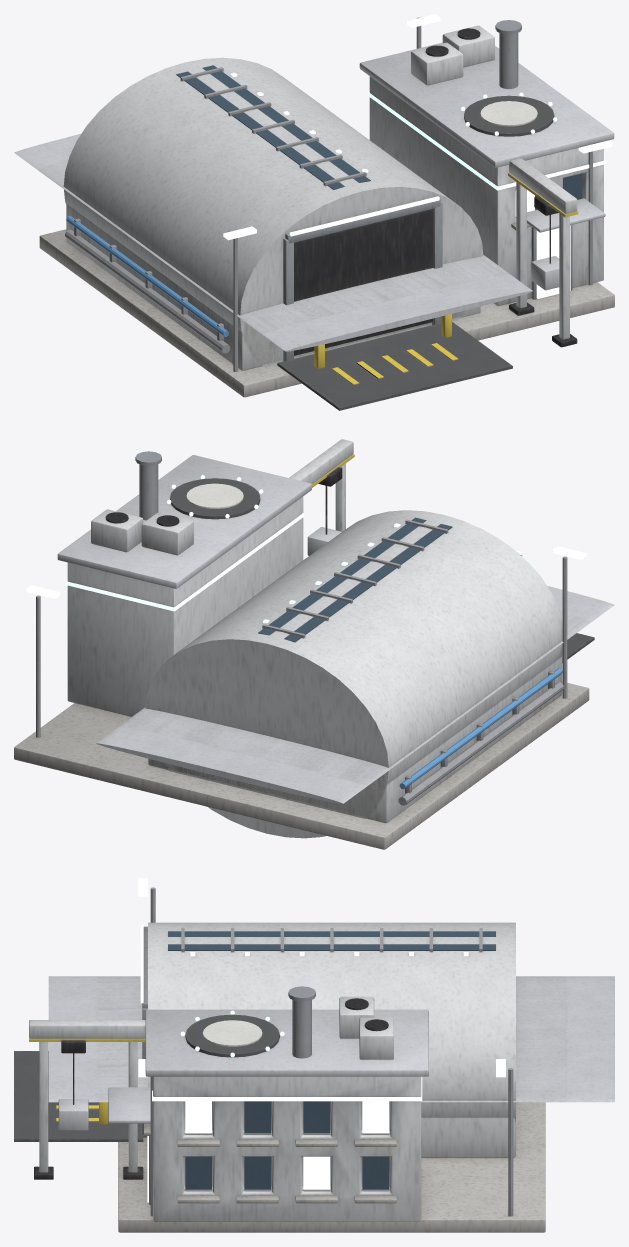
File: west_factory.glb
3 views of the same model, one above another, from view 1: azimuth 30°, elevation 25°; view 2: azimuth 150°, elevation 25°; view 3: azimuth 270°, elevation 25° (orthographic). The views are drawn at different scales.
Parts seen in each view (by area): view 1: Hull; view 2: Hull; view 3: Hull.
Boxes of the visible parts, bbox=[...] form: Hull: bbox=[14, 14, 614, 410]; Hull: bbox=[14, 439, 614, 849]; Hull: bbox=[14, 878, 614, 1232].
Bounding box in the file's own units: 9.49 × 5.74 × 12.09.
14 materials, 14 textured.
